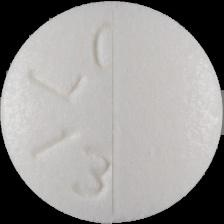0527-1311: (0, 0, 224, 224)
